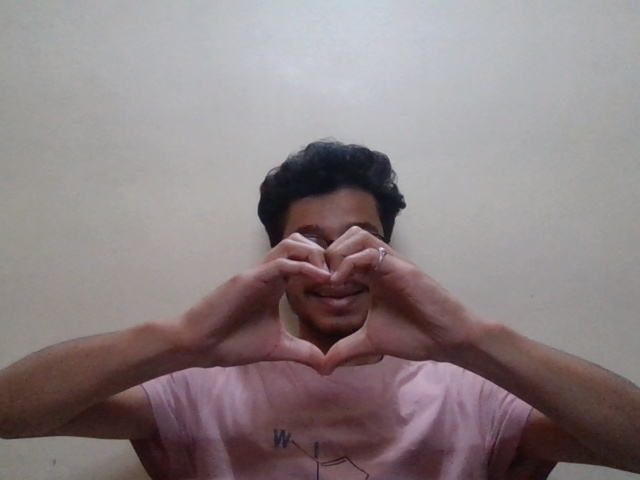silent-voice: (227, 223, 457, 391)
